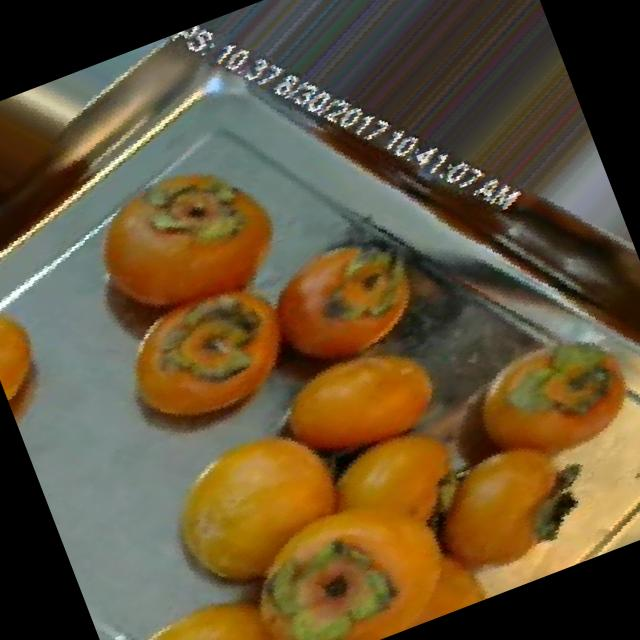Fruit: (66, 238, 335, 482), (120, 388, 365, 630), (0, 269, 86, 445)
